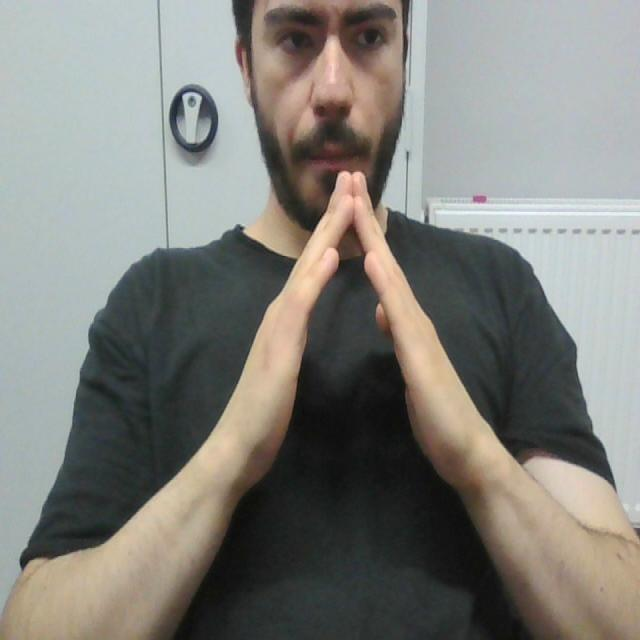Ev: (221, 162, 495, 512)
